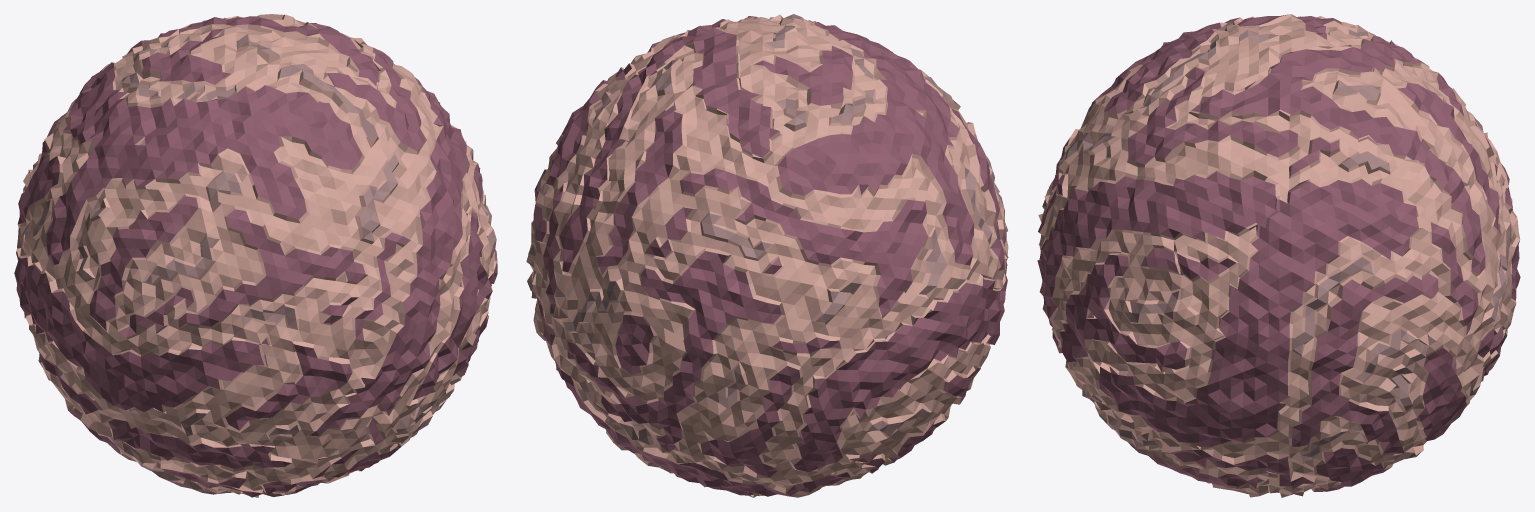
Rendered from pluto0.fbx.
3 renders of one model, left to right at view 1: azimuth 30°, elevation 25°; view 2: azimuth 150°, elevation 25°; view 3: azimuth 270°, elevation 25°, orthographic.
Visible parts, largest first — view 1: Pluto V3; view 2: Pluto V3; view 3: Pluto V3.
Part boxes in pixels (box(x1,y1,x2,y2)): Pluto V3: box(14, 14, 497, 497); Pluto V3: box(526, 14, 1008, 497); Pluto V3: box(1037, 14, 1520, 497).
Bounding box in the file's own units: 211 × 212 × 211.
